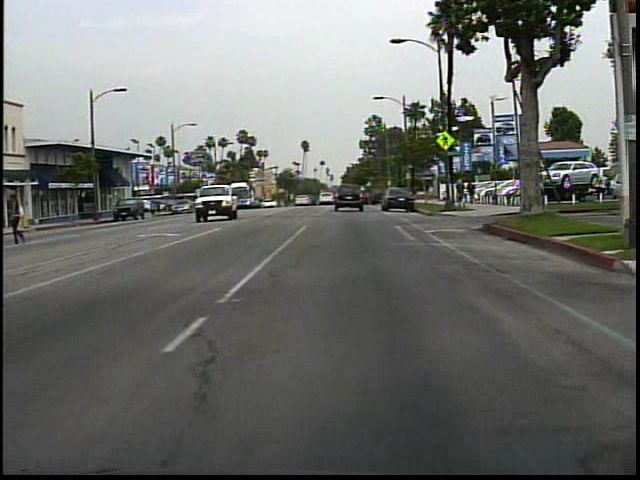person: (13, 193, 36, 245), (529, 177, 552, 217)
